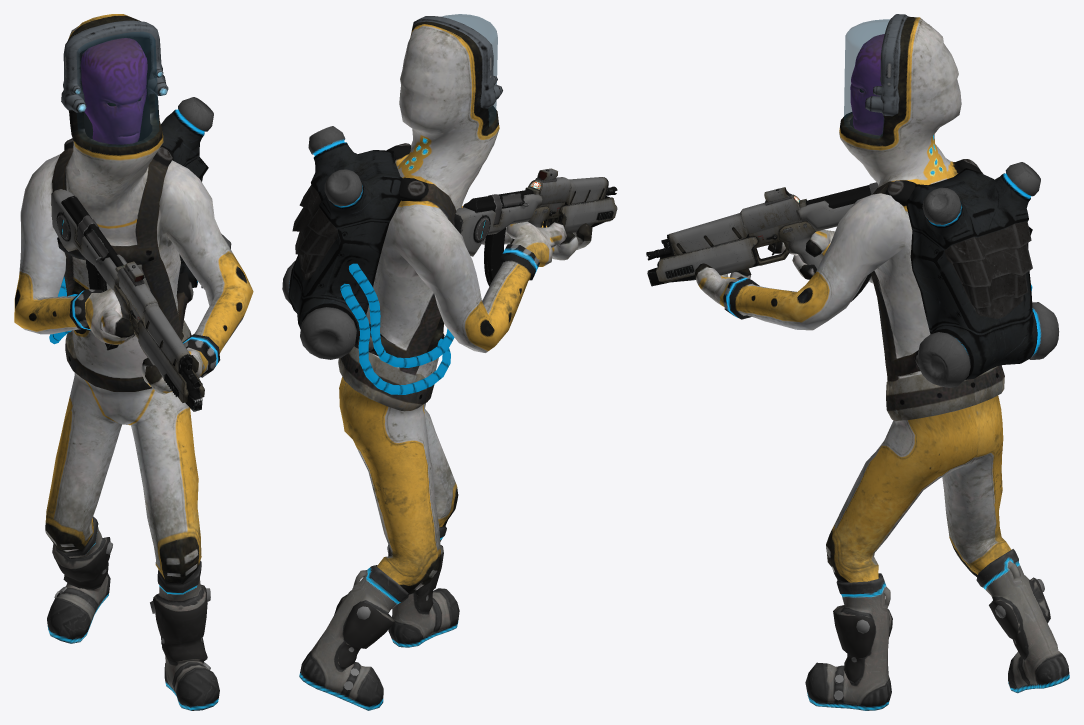
The model's file is scene-web.glb.
3 renders of one model, left to right at view 1: azimuth 30°, elevation 25°; view 2: azimuth 150°, elevation 25°; view 3: azimuth 270°, elevation 25°, orthographic. The views are drawn at different scales.
Visible parts, largest first — view 1: Object_5, Object_7, Object_2, Object_6, Object_3; view 2: Object_5, Object_3, Object_7, Object_2; view 3: Object_5, Object_3, Object_7, Object_2, Object_6.
Boxes of the visible parts, <box> form: Object_5: <box>14,14,253,710</box>; Object_7: <box>51,188,204,411</box>; Object_2: <box>77,32,158,146</box>; Object_6: <box>80,38,147,144</box>; Object_3: <box>49,97,231,344</box>; Object_5: <box>299,16,592,710</box>; Object_3: <box>282,126,454,394</box>; Object_7: <box>454,168,617,286</box>; Object_2: <box>441,14,497,125</box>; Object_5: <box>694,14,1069,710</box>; Object_3: <box>906,162,1059,387</box>; Object_7: <box>646,182,878,301</box>; Object_2: <box>844,19,889,138</box>; Object_6: <box>850,34,884,135</box>.
Size of the model in its own units: 66.67 by 195 by 115.
Materials: 5 (4 with a texture image).
